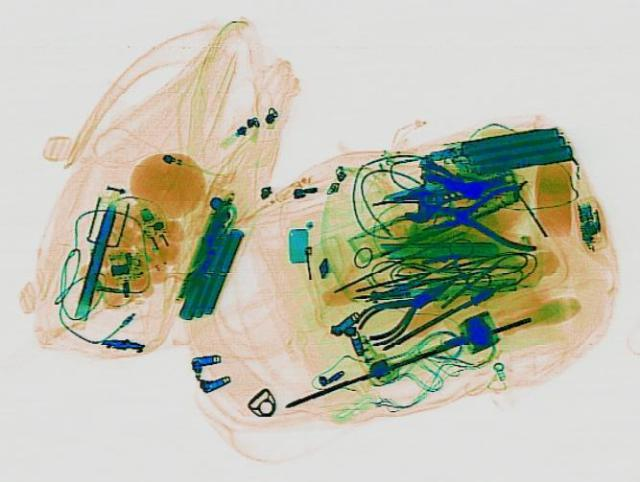Pliers: (342, 261, 472, 346), (419, 183, 536, 247)
Wrench: (388, 160, 526, 223)
